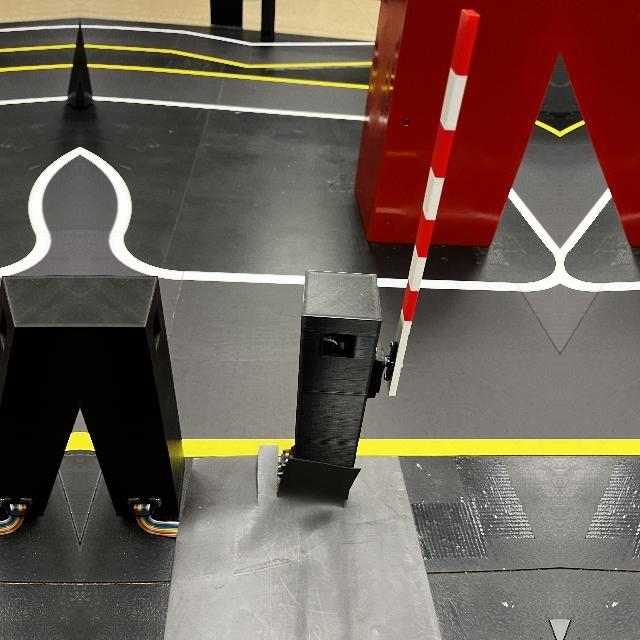obstacle: (80, 272, 180, 540), (280, 268, 392, 504), (0, 272, 80, 539)
